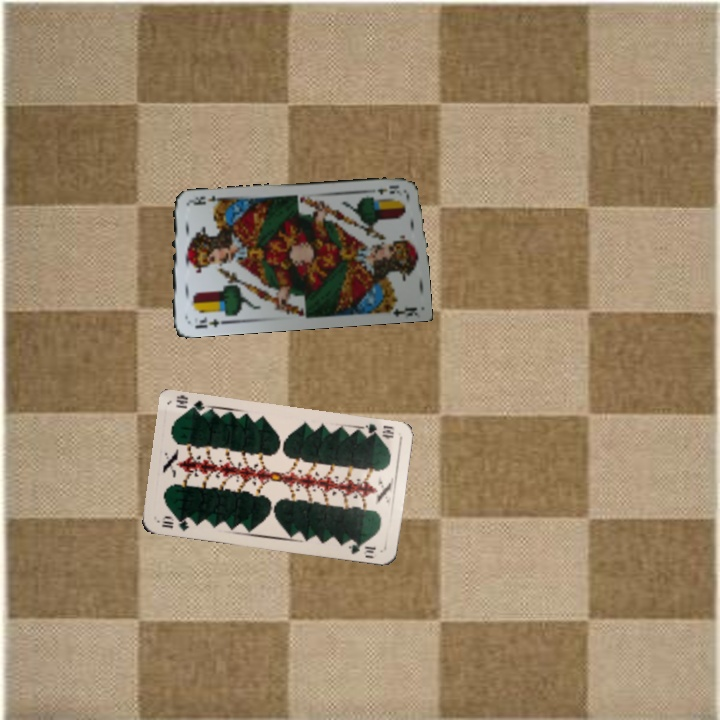EK: (191, 313, 228, 331), (373, 181, 403, 197)
G10: (358, 420, 396, 441), (158, 512, 192, 534)
